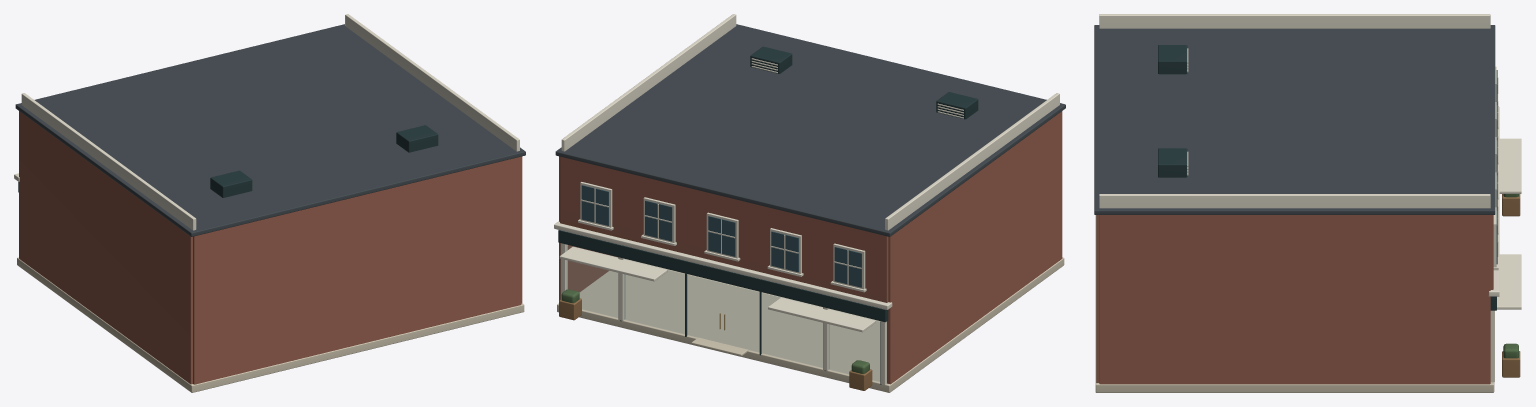
The model's file is brickBistro.glb.
3 views of the same model, side by side, from view 1: azimuth 30°, elevation 25°; view 2: azimuth 150°, elevation 25°; view 3: azimuth 270°, elevation 25° (orthographic). The views are drawn at different scales.
Visible parts, largest first — view 1: Terracotta brick, Slate roof, Ivory trim, Limestone, Dark metal; view 2: Slate roof, Terracotta brick, Limestone, Ivory trim, Clear storefront glazing, Dark metal, Window glass, Cedar timber; view 3: Slate roof, Terracotta brick, Ivory trim, Limestone, Dark metal, Cedar timber, Window glass.
Boxes of the visible parts, x1=… form: Terracotta brick: x1=19, y1=111, x2=522, y2=384; Slate roof: x1=15, y1=24, x2=525, y2=236; Ivory trim: x1=14, y1=14, x2=519, y2=230; Limestone: x1=17, y1=257, x2=524, y2=392; Dark metal: x1=18, y1=125, x2=438, y2=197; Slate roof: x1=555, y1=24, x2=1065, y2=236; Terracotta brick: x1=559, y1=111, x2=1062, y2=384; Limestone: x1=557, y1=257, x2=1064, y2=392; Ivory trim: x1=554, y1=14, x2=1059, y2=384; Clear storefront glazing: x1=567, y1=245, x2=879, y2=381; Dark metal: x1=558, y1=46, x2=978, y2=384; Window glass: x1=581, y1=185, x2=861, y2=287; Cedar timber: x1=559, y1=298, x2=872, y2=390; Slate roof: x1=1094, y1=25, x2=1495, y2=214; Terracotta brick: x1=1096, y1=215, x2=1493, y2=384; Ivory trim: x1=1099, y1=14, x2=1521, y2=382; Limestone: x1=1095, y1=215, x2=1494, y2=392; Dark metal: x1=1158, y1=45, x2=1496, y2=310; Cedar timber: x1=1502, y1=194, x2=1520, y2=377; Window glass: x1=1496, y1=70, x2=1497, y2=264.
Size of the model in its own units: 18 by 8.86 by 17.47.
